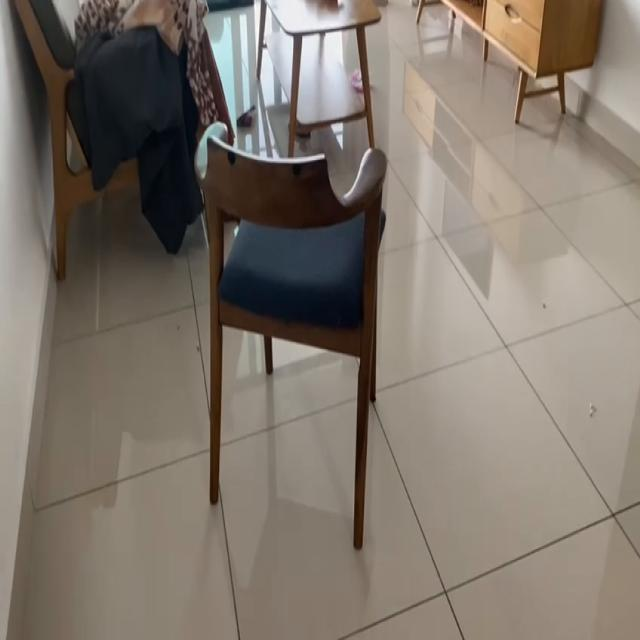Chair: (173, 121, 415, 583)
